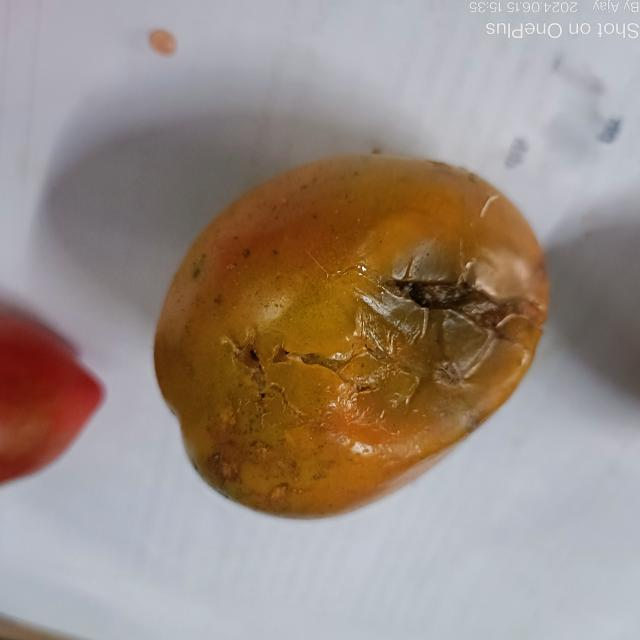Botrytis: (239, 262, 535, 426)
